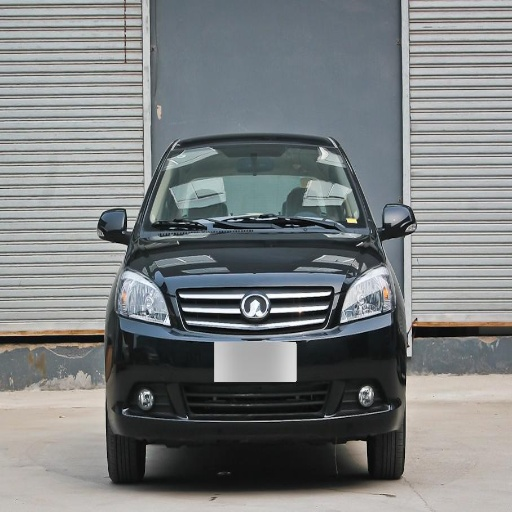front_bumper: (107, 278, 404, 439)
front_right_light: (115, 270, 173, 327)
hood: (131, 230, 380, 293)
